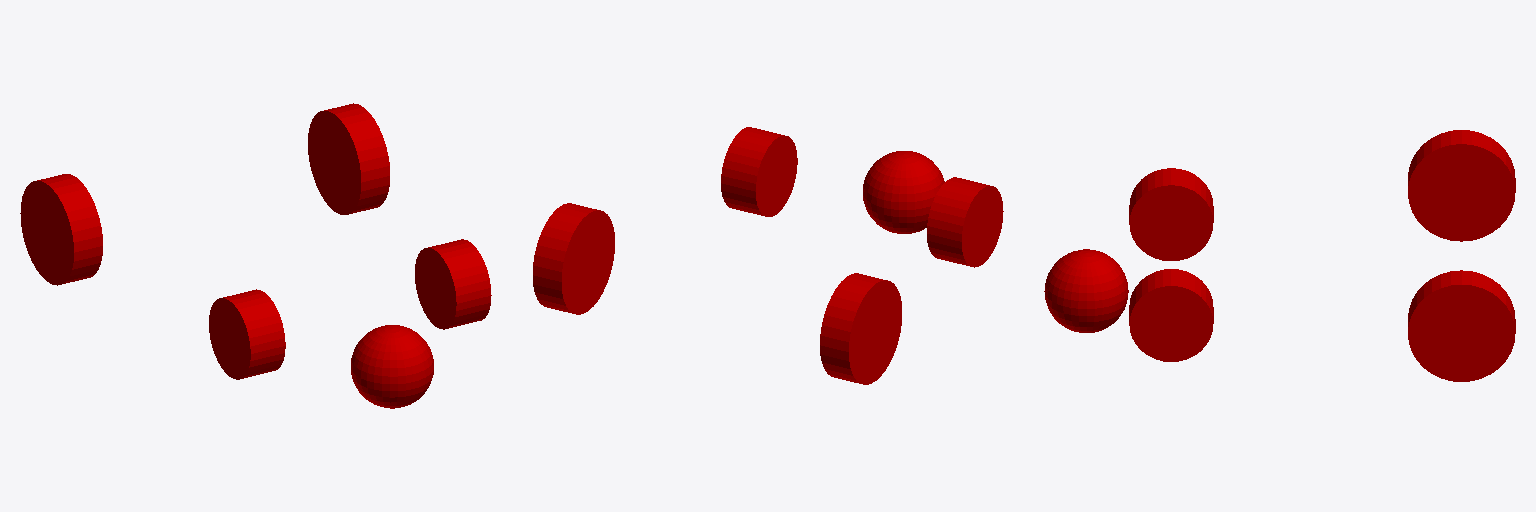
robot.urdf — albert:
<?xml version="1.0" encoding="utf-8"?>
<!-- =================================================================================== -->
<!-- |    This document was autogenerated by xacro from mmrobot.urdf.xacro             | -->
<!-- |    EDITING THIS FILE BY HAND IS NOT RECOMMENDED                                 | -->
<!-- =================================================================================== -->
<robot name="albert">
  <material name="Boxer_Black">
    <color rgba="0.1 0.1 0.1 1.0"/>
  </material>
  <material name="Boxer_Blue">
    <color rgba="0.0 0.0 0.8 1.0"/>
  </material>
  <material name="Boxer_Purple">
    <color rgba="0.6 0.0 0.6 1.0"/>
  </material>
  <material name="Boxer_Green">
    <color rgba="0.0 0.8 0.0 1.0"/>
  </material>
  <material name="Boxer_LimeGreen">
    <color rgba="0.3 0.8 0.3 1.0"/>
  </material>
  <material name="Boxer_Grey">
    <color rgba="0.5 0.5 0.5 1.0"/>
  </material>
  <material name="Boxer_DarkGrey">
    <color rgba="0.3 0.3 0.3 1.0"/>
  </material>
  <material name="Boxer_Red">
    <color rgba="0.8 0.0 0.0 1.0"/>
  </material>
  <material name="Boxer_Pink">
    <color rgba="0.8 0.4 0.8 1.0"/>
  </material>
  <material name="Boxer_White">
    <color rgba="1.0 1.0 1.0 1.0"/>
  </material>
  <material name="Boxer_Yellow">
    <color rgba="0.8 0.8 0.0 1.0"/>
  </material>
  <material name="Boxer_GreyTransparent">
    <color rgba="0.5 0.5 0.5 0.5"/>
  </material>
  <link name="chassis_link">
    <inertial>
      <origin rpy="0 0 0" xyz="0 0 0.07"/>
      <mass value="250"/>
      <inertia ixx="2.3" ixy="0" ixz="0" iyy="3.35" iyz="0.00" izz="1.22"/>
    </inertial>
    <visual>
      <origin rpy="0 0 0" xyz="0 0 0"/>
      <geometry>
        <mesh filename="meshes/visual/chassis_link.dae"/>
      </geometry>
      <material name="">
        <color rgba="0.8 0.8 0.9 1"/>
      </material>
    </visual>
    <collision>
      <origin rpy="0 0 0" xyz="0 0 0"/>
      <geometry>
        <mesh filename="meshes/collision/chassis_link.STL"/>
      </geometry>
    </collision>
  </link>
  <!-- 0.27 in z direction because extrusion is 0.30, and plate is 0.1 -->
  <link name="rotacastor_right_link">
    <inertial>
      <origin rpy="0 0 0" xyz="0 0 0"/>
      <mass value="1"/>
      <inertia ixx="0.2" ixy="0" ixz="0" iyy="0.2" iyz="0" izz="0.2"/>
    </inertial>
    <visual>
      <origin rpy="0 1.5708 0" xyz="0 0 0"/>
      <geometry>
        <cylinder length="0.06" radius="0.0625"/>
      </geometry>
      <material name="Boxer_Red"/>
    </visual>
    <collision>
      <origin rpy="0 1.5708 0" xyz="0 0 0"/>
      <geometry>
        <cylinder length="0.001" radius="0.0625"/>
      </geometry>
    </collision>
  </link>
  <joint name="rotacastor_right_joint" type="continuous">
    <origin rpy="0 0 0" xyz="-0.177 -0.274 0.043"/>
    <parent link="chassis_link"/>
    <child link="rotacastor_right_link"/>
    <axis xyz="1 0 0"/>
    <dynamics damping="1.0"/>
  </joint>
  <link name="rotacastor_left_link">
    <inertial>
      <origin rpy="0 0 0" xyz="0 0 0"/>
      <mass value="1"/>
      <inertia ixx="0.2" ixy="0" ixz="0" iyy="0.2" iyz="0" izz="0.2"/>
    </inertial>
    <visual>
      <origin rpy="0 1.5708 0" xyz="0 0 0"/>
      <geometry>
        <cylinder length="0.06" radius="0.0625"/>
      </geometry>
      <material name="Boxer_Red"/>
    </visual>
    <collision>
      <origin rpy="0 1.5708 0" xyz="0 0 0"/>
      <geometry>
        <cylinder length="0.001" radius="0.0625"/>
      </geometry>
    </collision>
  </link>
  <joint name="rotacastor_left_joint" type="continuous">
    <origin rpy="0 0 0" xyz="0.177 -0.274 0.043"/>
    <parent link="chassis_link"/>
    <child link="rotacastor_left_link"/>
    <axis xyz="1 0 0"/>
    <dynamics damping="1.0"/>
  </joint>
  <link name="wheel_right_link">
    <inertial>
      <origin rpy="0 0 0" xyz="0 0 0"/>
      <mass value="10"/>
      <inertia ixx="0.2" ixy="0" ixz="0" iyy="0.2" iyz="0" izz="0.2"/>
    </inertial>
    <visual>
      <origin rpy="0 1.5708 0" xyz="0 0 0"/>
      <geometry>
        <cylinder length="0.05" radius="0.080"/>
      </geometry>
      <material name="Boxer_Red"/>
    </visual>
    <collision>
      <origin rpy="0 1.5708 0" xyz="0 0 0"/>
      <geometry>
        <cylinder length="0.001" radius="0.080"/>
      </geometry>
    </collision>
  </link>
  <joint name="wheel_right_joint" type="continuous">
    <origin rpy="0 0 0" xyz="-0.247 0.157 0.058"/>
    <parent link="chassis_link"/>
    <child link="wheel_right_link"/>
    <axis xyz="1 0 0"/>
    <limit effort="10000" velocity="1000"/>
    <dynamics damping="1.0"/>
  </joint>
  <link name="wheel_left_link">
    <inertial>
      <origin rpy="0 0 0" xyz="0 0 0"/>
      <mass value="10"/>
      <inertia ixx="0.2" ixy="0" ixz="0" iyy="0.2" iyz="0" izz="0.2"/>
    </inertial>
    <visual>
      <origin rpy="0 1.5708 0" xyz="0 0 0"/>
      <geometry>
        <cylinder length="0.05" radius="0.080"/>
      </geometry>
      <material name="Boxer_Red"/>
    </visual>
    <collision>
      <origin rpy="0 1.5708 0" xyz="0 0 0"/>
      <geometry>
        <cylinder length="0.001" radius="0.080"/>
      </geometry>
    </collision>
  </link>
  <joint name="wheel_left_joint" type="continuous">
    <origin rpy="0 0 0" xyz="0.247 0.157 0.058"/>
    <parent link="chassis_link"/>
    <child link="wheel_left_link"/>
    <axis xyz="1 0 0"/>
    <limit effort="10000" velocity="1000"/>
    <dynamics damping="1.0"/>
  </joint>
  <!-- Base link with no geometry or inertia, because KDL needs it
to be that way. -->
  <link name="base_link">
    <inertial>
      <origin rpy="0 0 0" xyz="0 0 0"/>
      <mass value="1"/>
      <inertia ixx="0.2" ixy="0" ixz="0" iyy="0.2" iyz="0" izz="0.2"/>
    </inertial>
  </link>
  <joint name="base_chassis_joint" type="fixed">
    <origin rpy="0 0 0" xyz="0 0 0"/>
    <parent link="base_link"/>
    <child link="chassis_link"/>
  </joint>
  <link name="ee_link">
    <visual>
      <origin rpy="0 0 0" xyz="0 0 0"/>
      <geometry>
        <sphere radius="0.0625"/>
      </geometry>
      <material name="Boxer_Red"/>
    </visual>
  </link>
  <joint name="ee_joint" type="fixed">
    <origin rpy="0 0 0" xyz="0 -0.4 0"/>
    <parent link="base_link"/>
    <child link="ee_link"/>
  </joint>
  <!-- end for simulation -->
</robot>

--- Render facts (derived) ---
Views: 3 orthographic renders of the robot side by side, from view 1: azimuth 30°, elevation 25°; view 2: azimuth 150°, elevation 25°; view 3: azimuth 270°, elevation 25°.
Robot: albert — 7 links, 6 joints (4 continuous, 2 fixed); root link base_link; default pose: all joints at 0.
Visible links, largest first — view 1: wheel_right_link, wheel_left_link, rotacastor_right_link, ee_link, rotacastor_left_link; view 2: wheel_left_link, wheel_right_link, rotacastor_left_link, rotacastor_right_link, ee_link; view 3: wheel_right_link, wheel_left_link, rotacastor_right_link, rotacastor_left_link, ee_link.
Boxes of the visible links, box(x1,y1,x2,y2) form: wheel_right_link: box(20, 174, 102, 285); wheel_left_link: box(308, 103, 389, 214); rotacastor_right_link: box(209, 289, 285, 379); ee_link: box(351, 325, 433, 408); rotacastor_left_link: box(415, 239, 491, 329); wheel_left_link: box(533, 203, 614, 314); wheel_right_link: box(820, 273, 901, 384); rotacastor_left_link: box(721, 127, 797, 216); rotacastor_right_link: box(927, 177, 1003, 267); ee_link: box(863, 151, 944, 233); wheel_right_link: box(1408, 130, 1515, 241); wheel_left_link: box(1408, 270, 1515, 381); rotacastor_right_link: box(1129, 168, 1213, 260); rotacastor_left_link: box(1129, 269, 1213, 361); ee_link: box(1044, 249, 1128, 332).
Size in the robot's own frame: 0.544 by 0.6995 by 0.2005 metres.
0 mesh visuals loaded from 1 distinct referenced files (none loaded); not drawn: 1 (reference not matched to a file when rendering).
